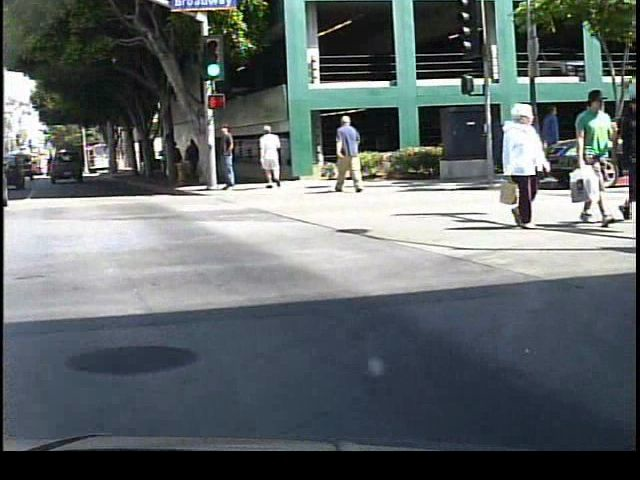person: (493, 103, 554, 235), (572, 89, 615, 232), (612, 98, 638, 223), (337, 113, 370, 195), (216, 122, 246, 204), (536, 103, 564, 180), (260, 123, 289, 194), (169, 140, 186, 186), (188, 136, 205, 173)
